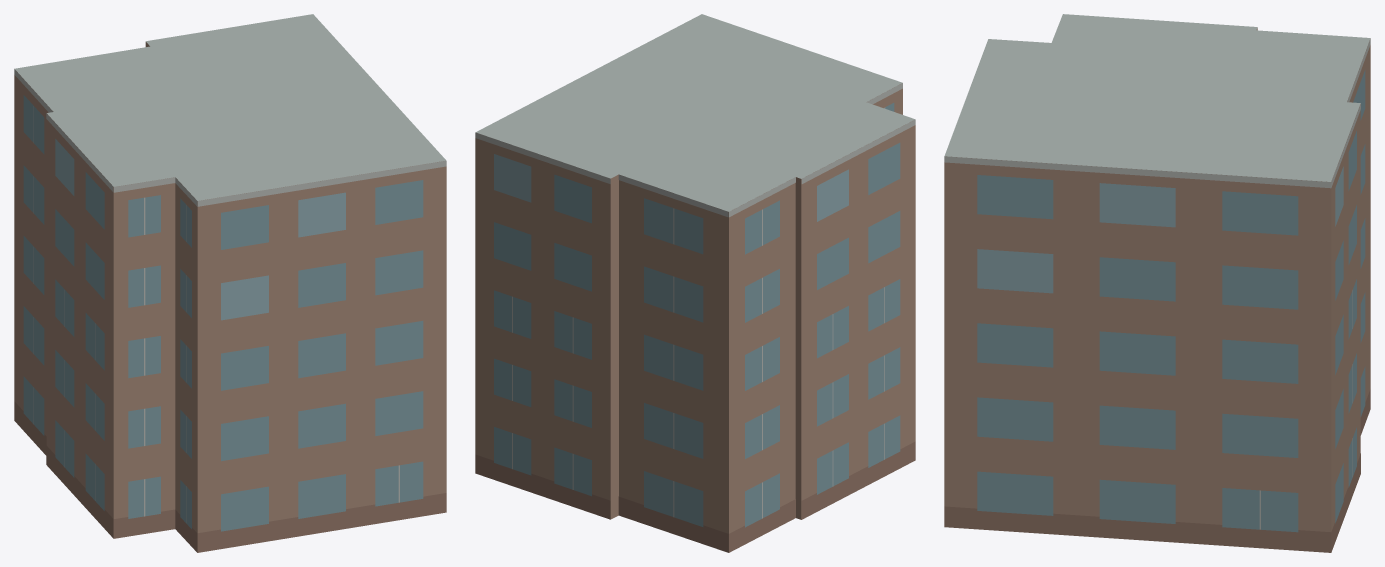
File: survey-upis-32720500.glb
3 renders of one model, left to right at view 1: azimuth 30°, elevation 25°; view 2: azimuth 150°, elevation 25°; view 3: azimuth 270°, elevation 25°, orthographic. The views are drawn at different scales.
Parts seen in each view (by area): view 1: survey-upis-32720500.tmp; view 2: survey-upis-32720500.tmp; view 3: survey-upis-32720500.tmp.
Boxes of the visible parts, left/top/right/bottom form: survey-upis-32720500.tmp: left=14, top=14, right=446, bottom=552; survey-upis-32720500.tmp: left=475, top=14, right=915, bottom=552; survey-upis-32720500.tmp: left=944, top=14, right=1370, bottom=552.
Size of the model in its own units: 14.25 by 14.65 by 15.27.
